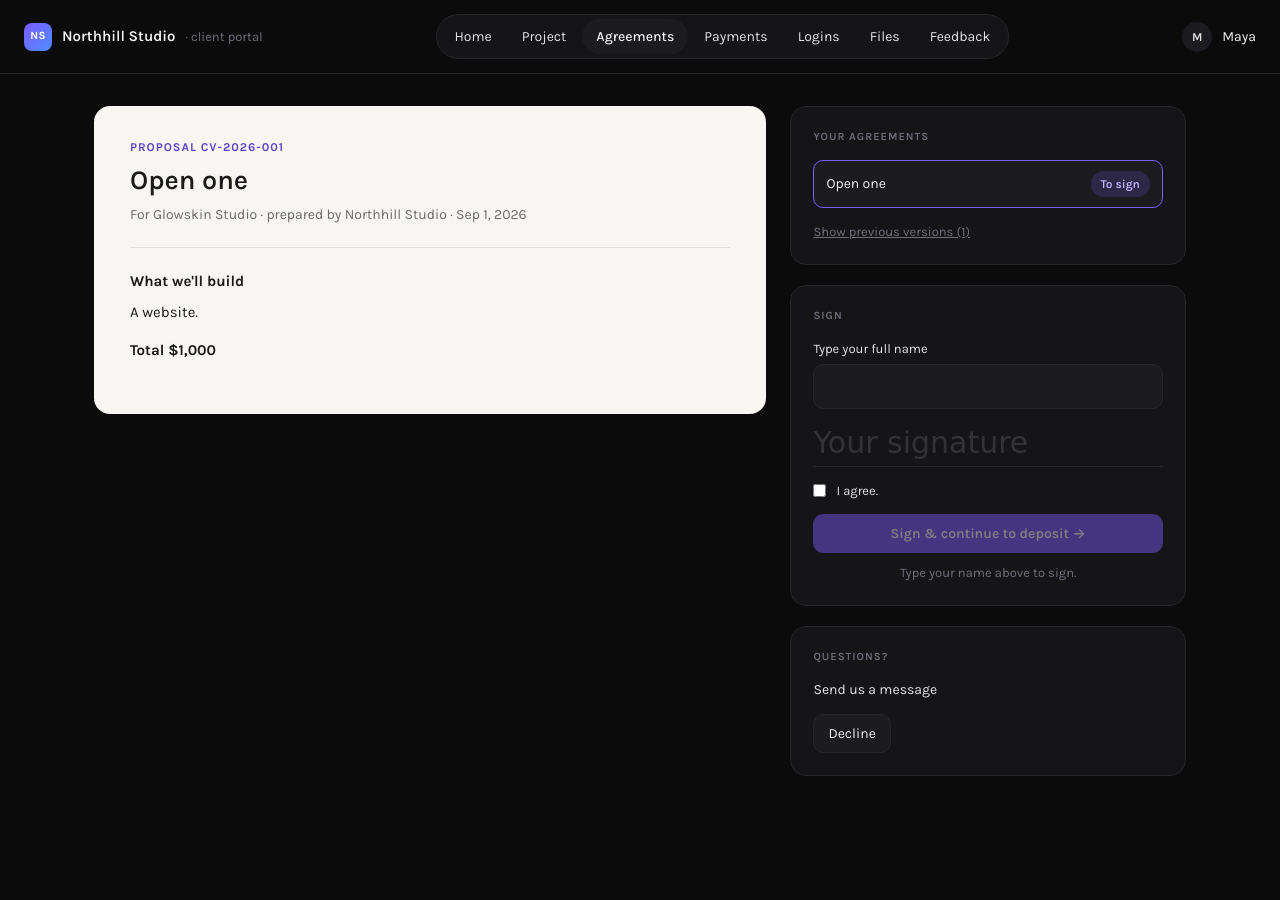
Test case: which versions the picker shows by default › reveals the closed-out versions once the toggle is clicked, and can hide them again
Step 1. Click the button "Show previous versions (1)" → (892, 231), box [813,212,1163,241]
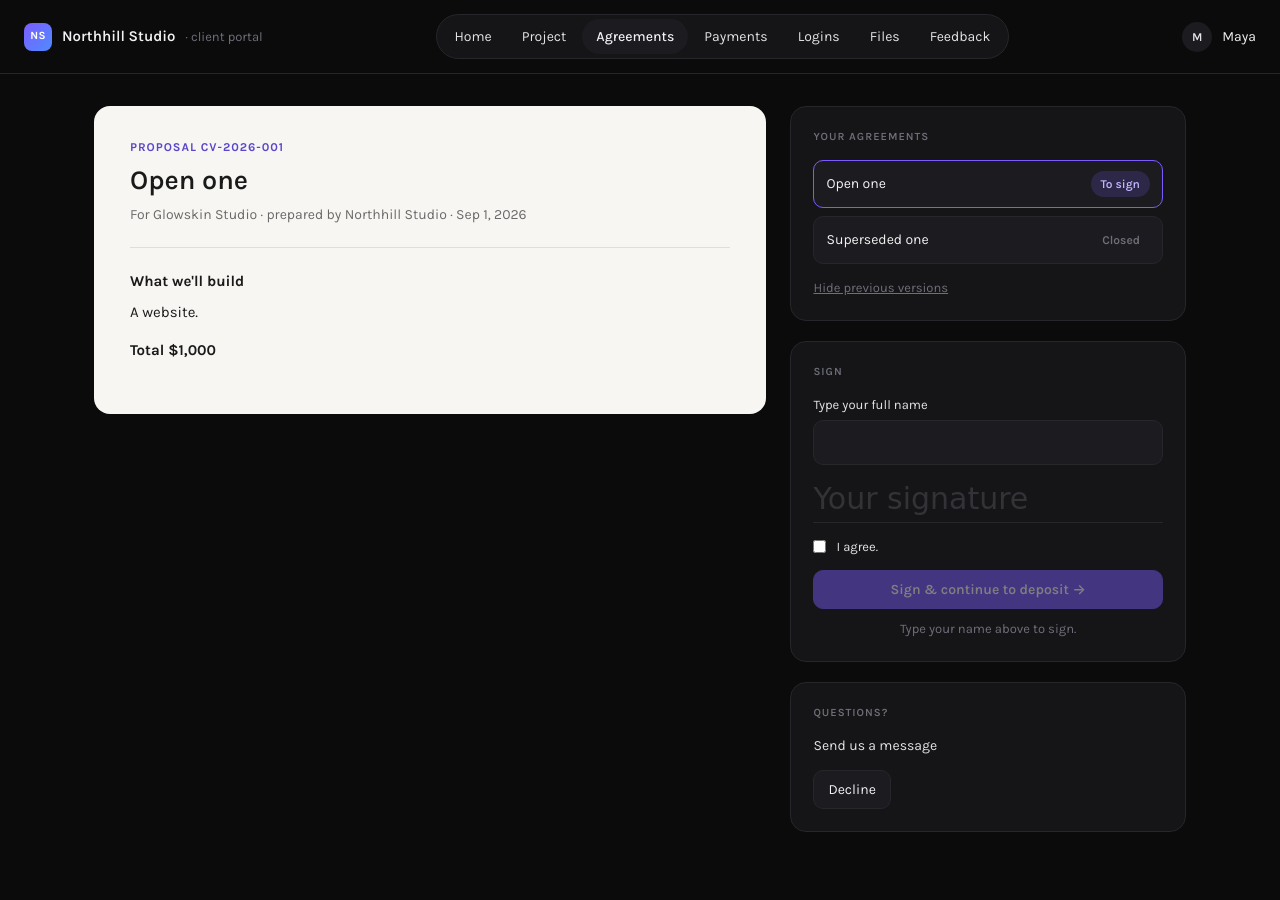
Expected: the text "Superseded one" is shown, [826,229,929,250]
Expected: the button "Hide previous versions" is shown
Step 2. Click the button "Hide previous versions" → (881, 287), box [813,268,1163,297]
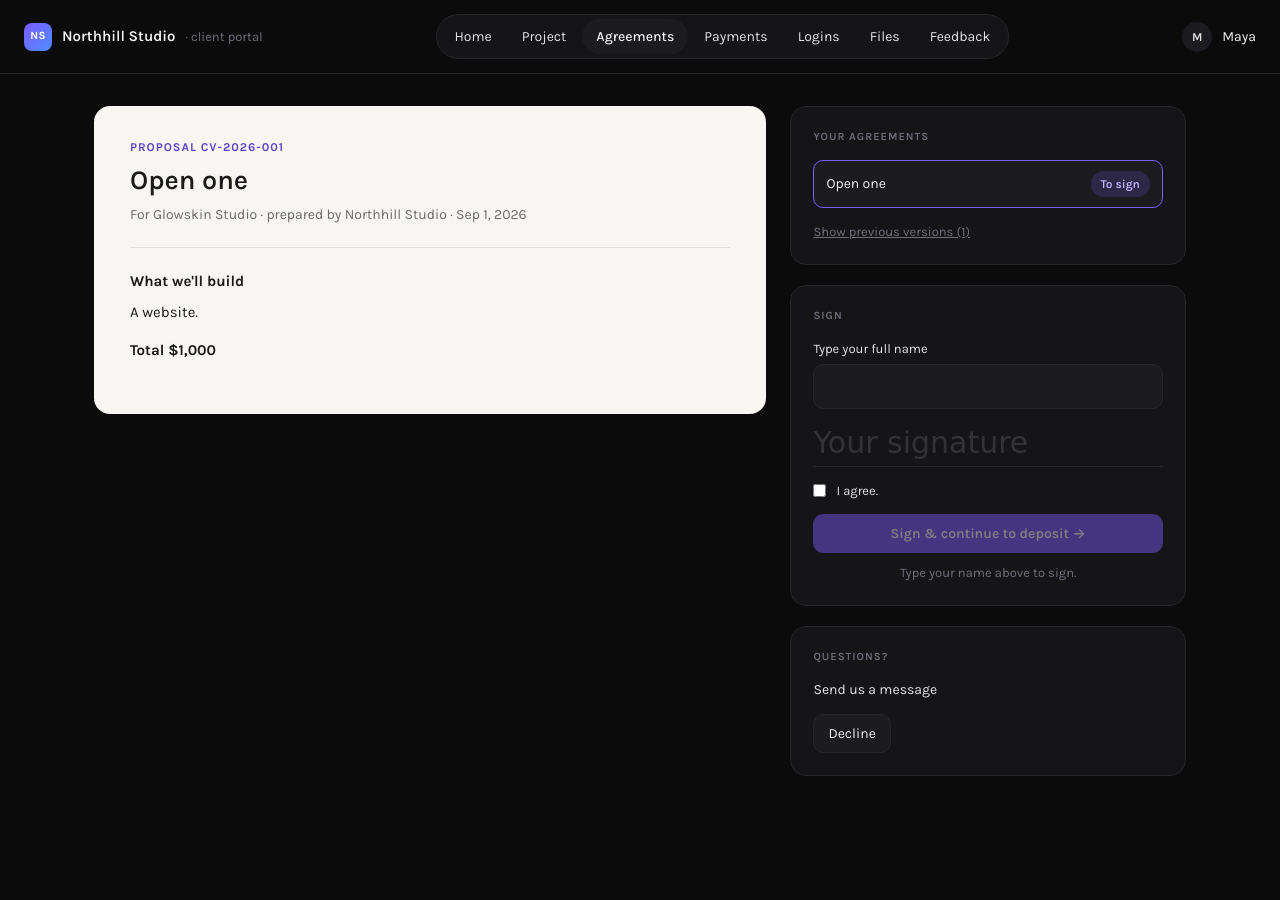
Expected: the button "Superseded one" is gone
